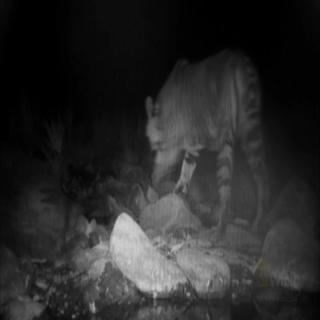Tiger: (128, 41, 276, 235)
